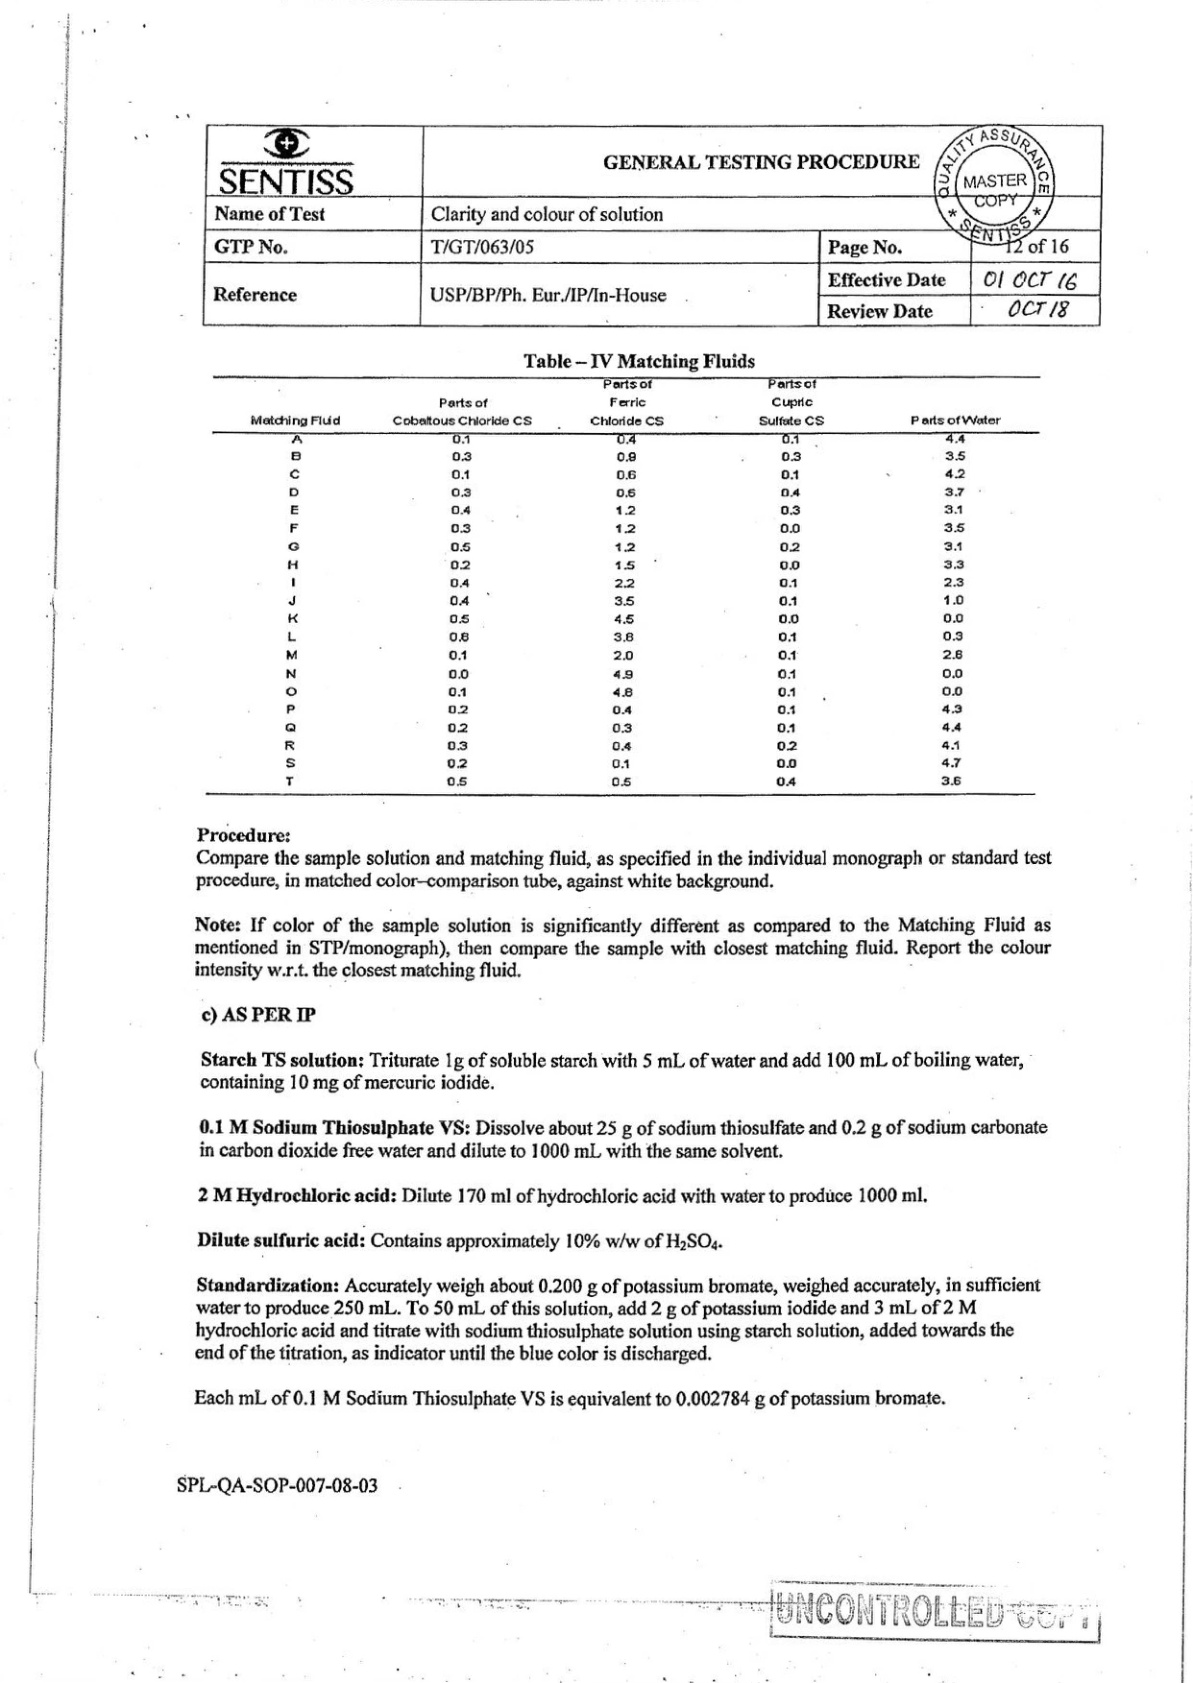partial_lined: (207, 374, 1042, 798)
partial_lined_merged_cells: (201, 121, 1104, 329)
